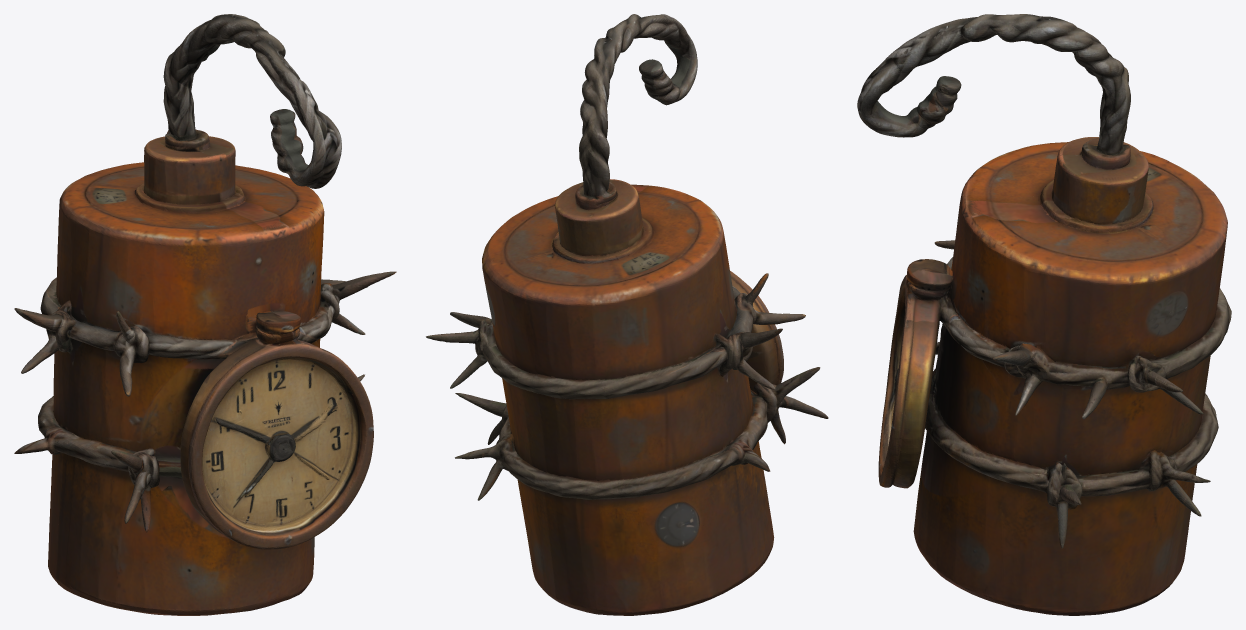
Rendered from Time_Bomb_0807002551_texture.fbx.
The picture shows the model from 3 angles, left to right: view 1: azimuth 30°, elevation 25°; view 2: azimuth 150°, elevation 25°; view 3: azimuth 270°, elevation 25°; orthographic projection. The views are drawn at different scales.
Visible parts, largest first — view 1: temp; view 2: temp; view 3: temp.
Part boxes in pixels (bbox=[...]): temp: bbox=[14, 14, 396, 615]; temp: bbox=[426, 14, 828, 615]; temp: bbox=[857, 14, 1231, 615].
Bounding box in the file's own units: 129 × 200 × 116.
1 material, 1 textured.
